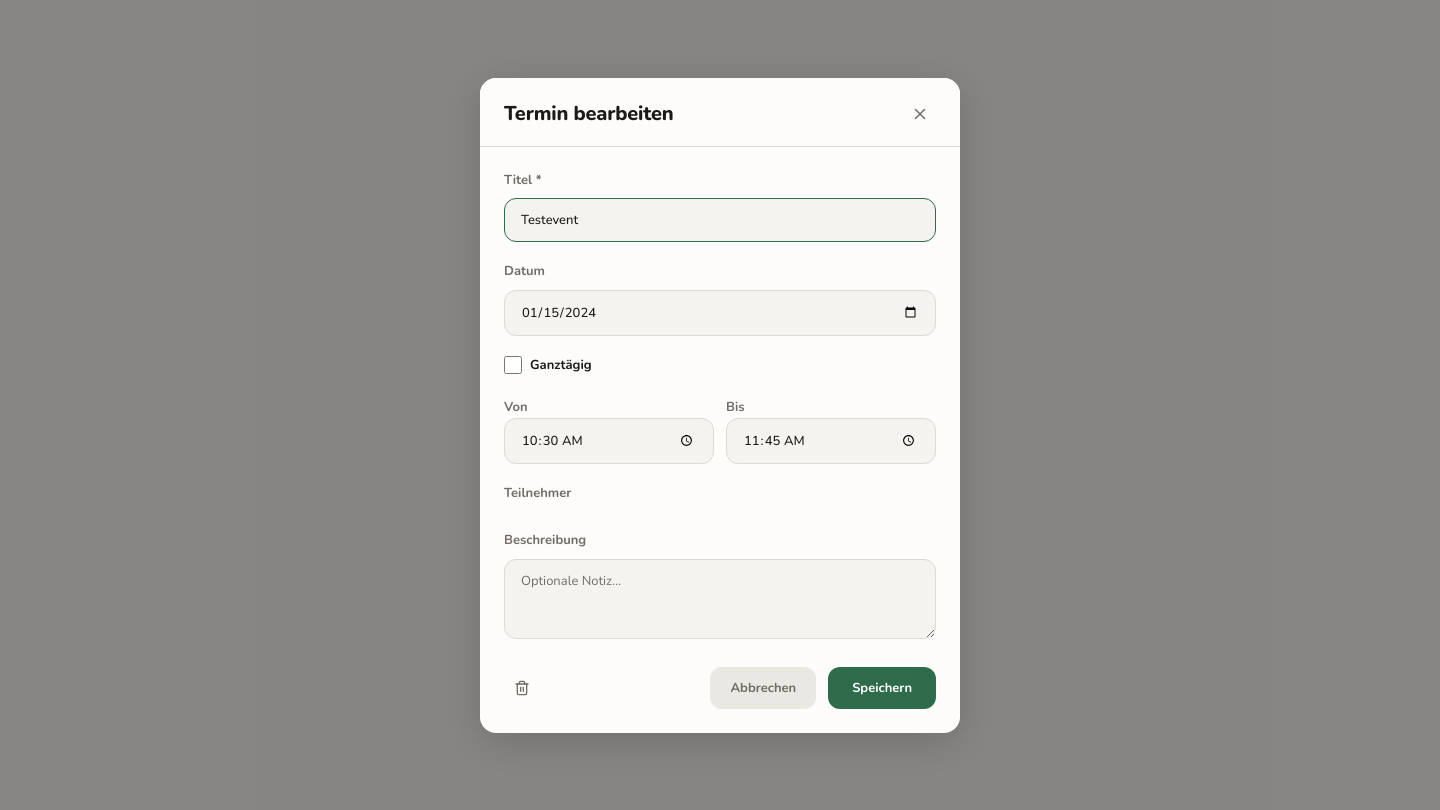
Test: EventFormModal — Termin löschen › zeigt eine Fehlermeldung und schließt nicht, wenn das Löschen fehlschlägt
This screenshot has width=1440, height=810.
What coordinates should you click on to do the following:
click the button named "Termin löschen"
I would click on:
 (522, 688)
Its box is [504,670,540,706].
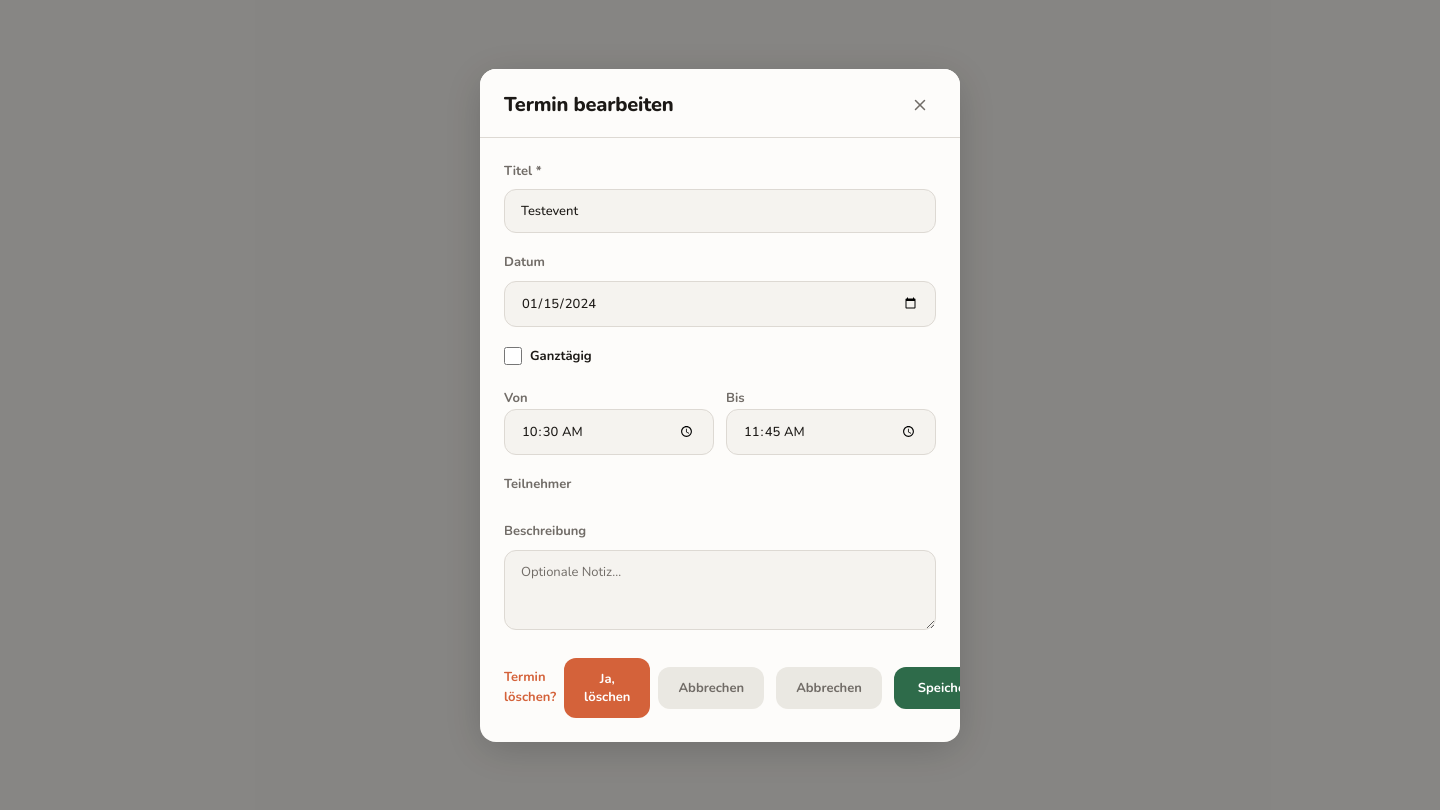
What coordinates should you click on to do the following:
click the button "Ja, löschen"
I would click on:
 (607, 688)
Its box is [564,658,650,718].
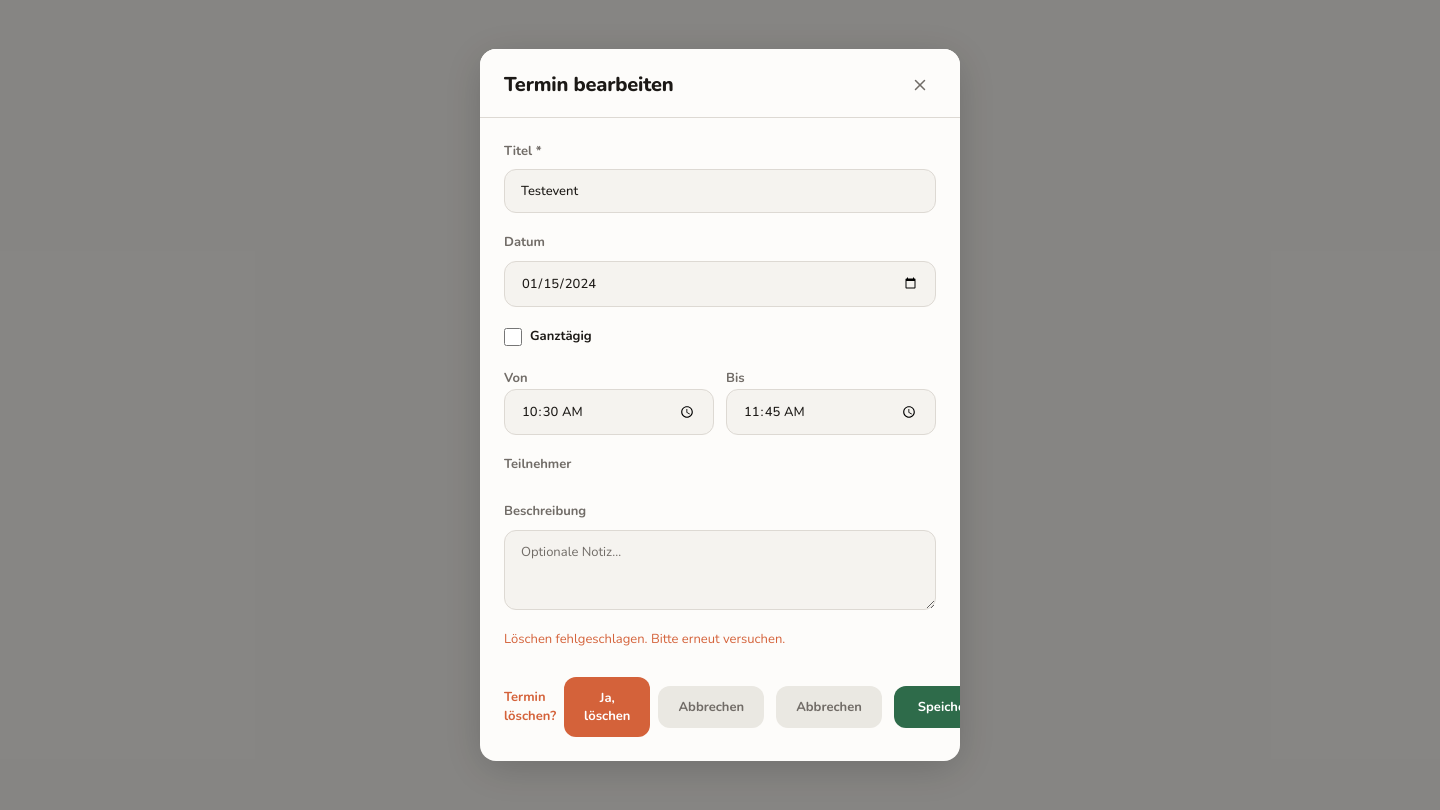
Expected: the text "Löschen fehlgeschlagen. Bitte erneut versuchen." is shown, [504,630,785,648]
